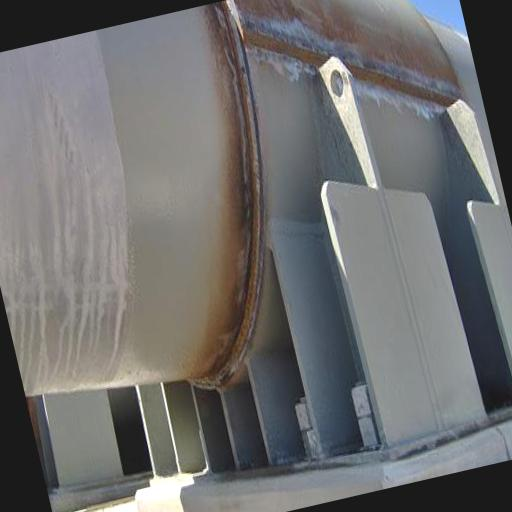segmentation: (189, 0, 463, 390)
